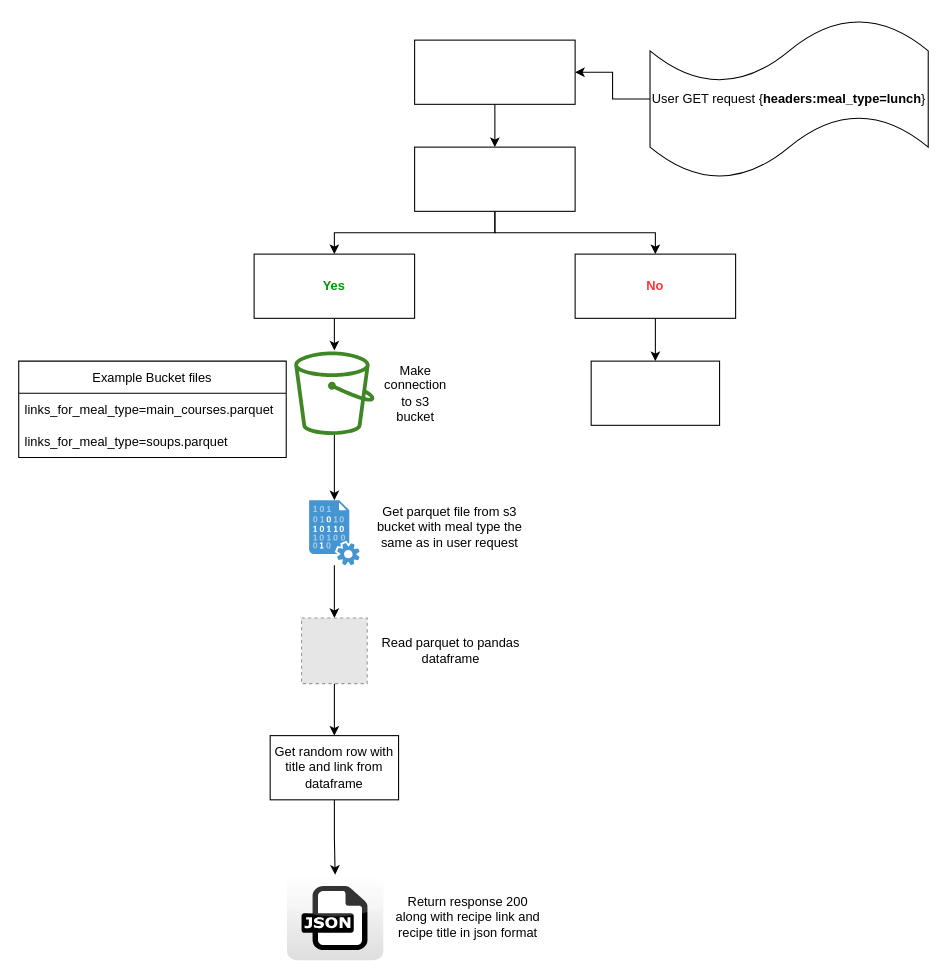
Some shapes in this 947 by 979 pixel diagram are drawn without their labels. Grey dashed boxes stand in for pictures. The centre of each missing label's shape, as x and y in pixels:
"API endpoint: recipes/random_recipe" belongs at [494,71].
"Is user request valid?" belongs at [494,178].
"Return response 400 Bad request" belongs at [655,392].
